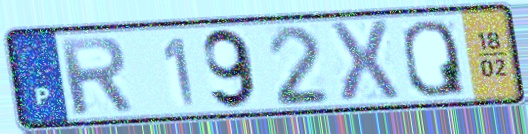1: (161, 35, 197, 108)
2: (265, 23, 333, 109)
9: (200, 26, 260, 111)
Q: (399, 17, 469, 99)
R: (54, 34, 136, 118)
X: (325, 17, 404, 107)
